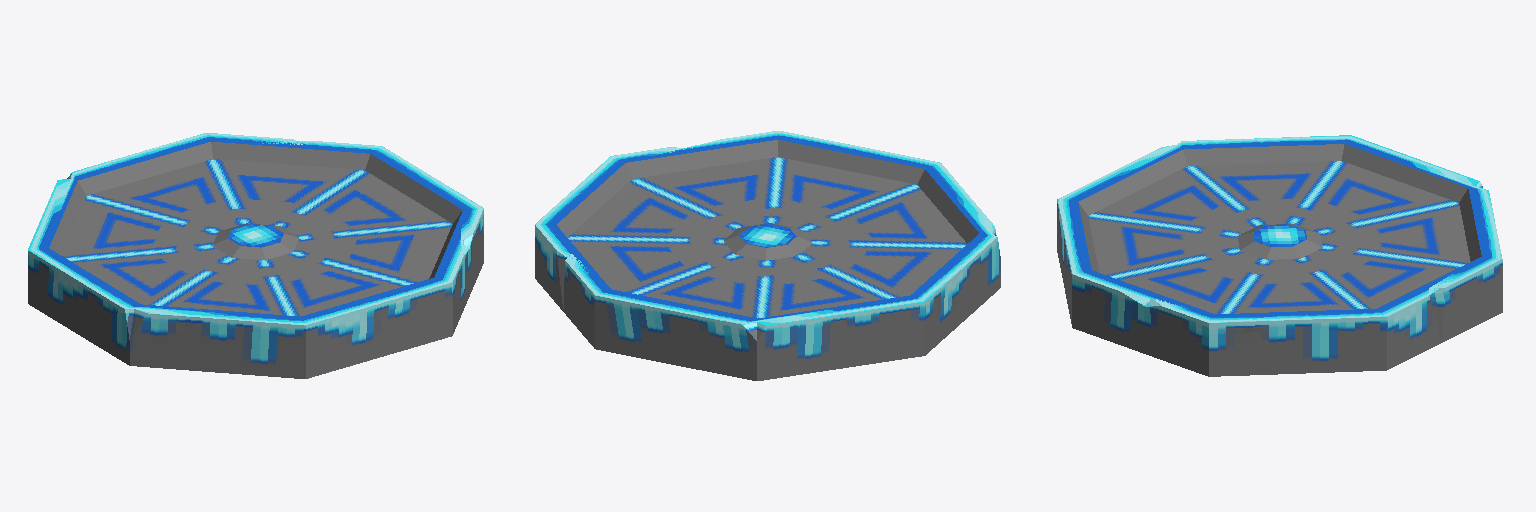
3 renders of one model, left to right at view 1: azimuth 30°, elevation 25°; view 2: azimuth 150°, elevation 25°; view 3: azimuth 270°, elevation 25°, orthographic.
Parts seen in each view (by area): view 1: Cylinder; view 2: Cylinder; view 3: Cylinder.
Boxes of the visible parts, box(x1,y1,x2,y2) form: Cylinder: box(28, 133, 483, 378); Cylinder: box(535, 131, 1000, 380); Cylinder: box(1057, 135, 1502, 376).
Size of the model in its own units: 1.5 by 0.2 by 1.5.
1 materials, 1 textured.